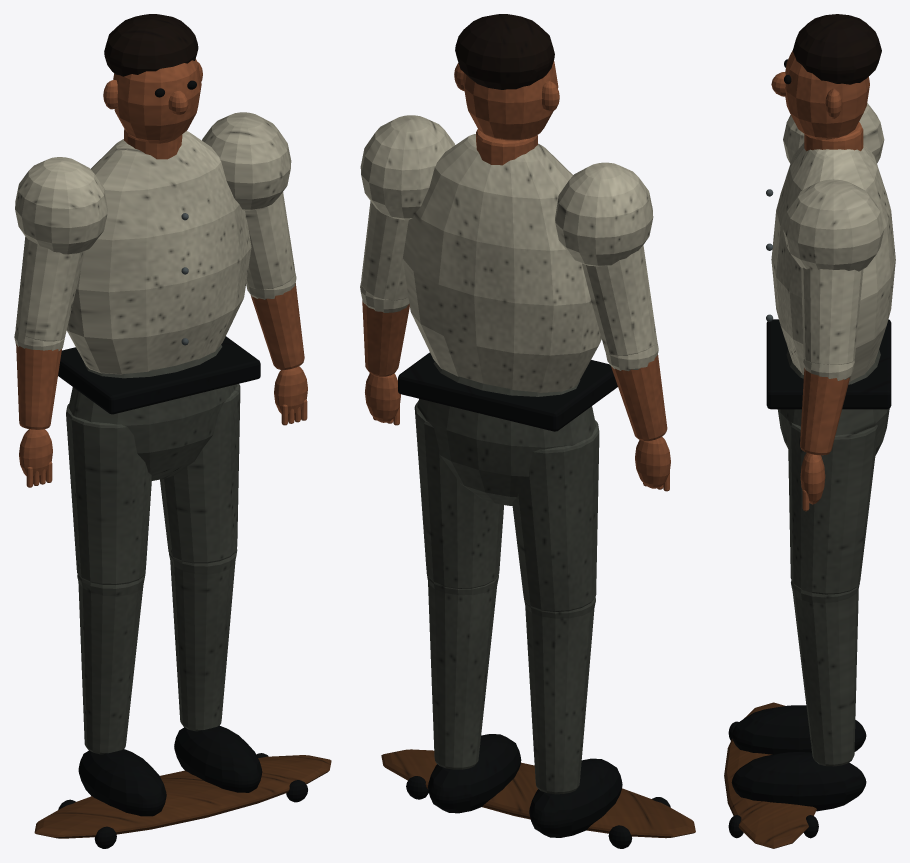
The model's file is PROP-D6813A330876_lod0.glb.
The picture shows the model from 3 angles, left to right: view 1: azimuth 30°, elevation 25°; view 2: azimuth 150°, elevation 25°; view 3: azimuth 270°, elevation 25°; orthographic projection. The views are drawn at different scales.
Parts seen in each view (by area): view 1: torso.051, thigh.050, calf.050, shoulder.051, skateboard_deck, upper_arm.051, shoe.050, pelvis.050, belt.050, forearm.051, head.050, hair_cap.050 (+6 smaller); view 2: torso.051, thigh.050, calf.050, shoulder.051, pelvis.050, upper_arm.051, shoe.050, belt.050, skateboard_deck, hair_cap.050, forearm.051, head.050 (+6 smaller); view 3: thigh.050, torso.051, shoe.050, shoulder.051, calf.050, upper_arm.051, hair_cap.050, belt.050, head.050, skateboard_deck, forearm.051, pelvis.050 (+6 smaller).
Boxes of the visible parts, x1,y1,x2,y2 form: torso.051: (66,131,251,374); thigh.050: (66,384,240,584); calf.050: (78,560,235,754); shoulder.051: (15,112,291,254); skateboard_deck: (34,755,331,838); upper_arm.051: (15,192,294,341); shoe.050: (78,725,262,816); pelvis.050: (68,345,237,480); belt.050: (58,336,260,414); forearm.051: (16,283,304,429); head.050: (113,59,201,143); hair_cap.050: (104,14,198,76); torso.051: (402,134,601,392); thigh.050: (414,401,599,611); calf.050: (428,582,594,794); shoulder.051: (360,115,653,266); pelvis.050: (417,361,596,505); upper_arm.051: (361,201,657,355); shoe.050: (428,734,622,837); belt.050: (398,352,617,431); skateboard_deck: (381,749,695,838); hair_cap.050: (455,14,554,89); forearm.051: (362,300,667,440); head.050: (463,61,558,140); thigh.050: (788,422,878,594); torso.051: (771,142,895,381); shoe.050: (731,705,866,811); shoulder.051: (783,103,884,271); calf.050: (792,589,858,766); upper_arm.051: (801,267,863,364); hair_cap.050: (792,14,881,84); belt.050: (766,319,891,409); head.050: (785,50,869,139); skateboard_deck: (724,702,816,848); forearm.051: (800,368,850,455); pelvis.050: (777,349,889,455).
Size of the model in its own units: 0.7458 by 1.85 by 0.3727.
Materials: 7 (7 with a texture image).
